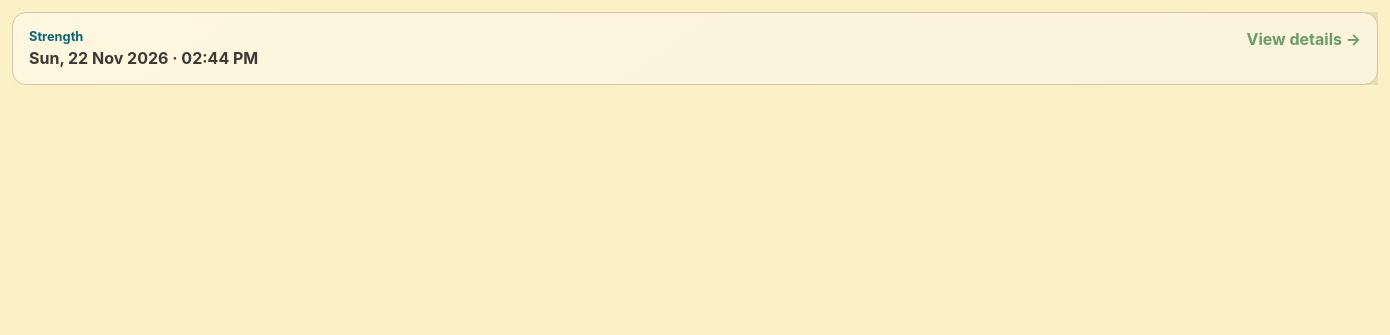
application shell actions › opens a previous session and shows its recorded sets
Click the button "Strength Sun, 22 Nov 2026 · 02:44 PM View details →": point(56, 36) x1=12 y1=12 x2=1378 y2=85
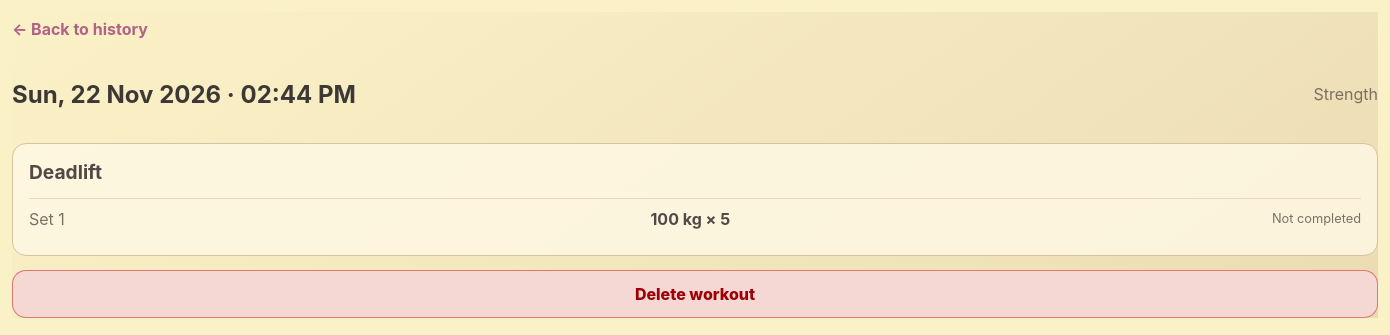
Now the text "100 kg × 5" is shown, box x1=650 y1=209 x2=730 y2=229
Now the button "← Back to history" is shown, box x1=12 y1=12 x2=148 y2=46
